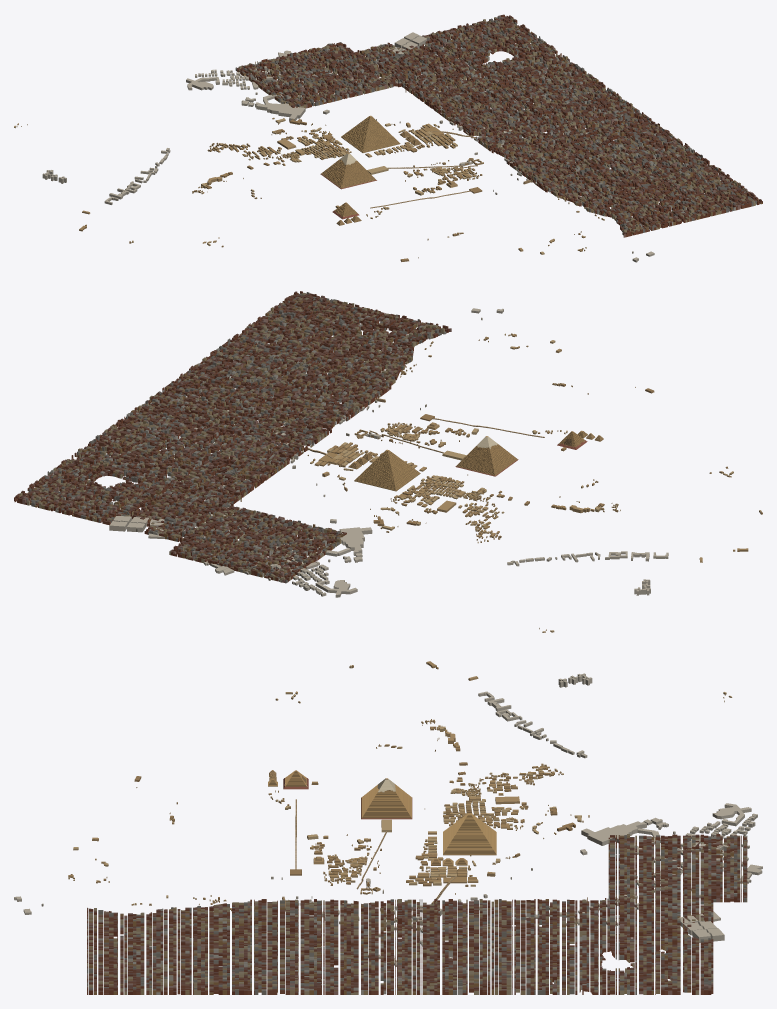
File: giza-monuments.glb
3 renders of one model, top to bottom at view 1: azimuth 30°, elevation 25°; view 2: azimuth 150°, elevation 25°; view 3: azimuth 270°, elevation 25°, orthographic. The views are drawn at different scales.
Visible parts, largest first — view 1: Town, Monuments; view 2: Town, Monuments; view 3: Town, Monuments.
Part boxes in pixels (bbox=[...]): Town: bbox=[235, 14, 762, 237]; Monuments: bbox=[14, 32, 654, 262]; Town: bbox=[14, 291, 451, 583]; Monuments: bbox=[109, 308, 762, 632]; Town: bbox=[87, 834, 747, 994]; Monuments: bbox=[14, 661, 762, 966].
Bounding box in the file's own units: 19684 × 1152 × 19047.
